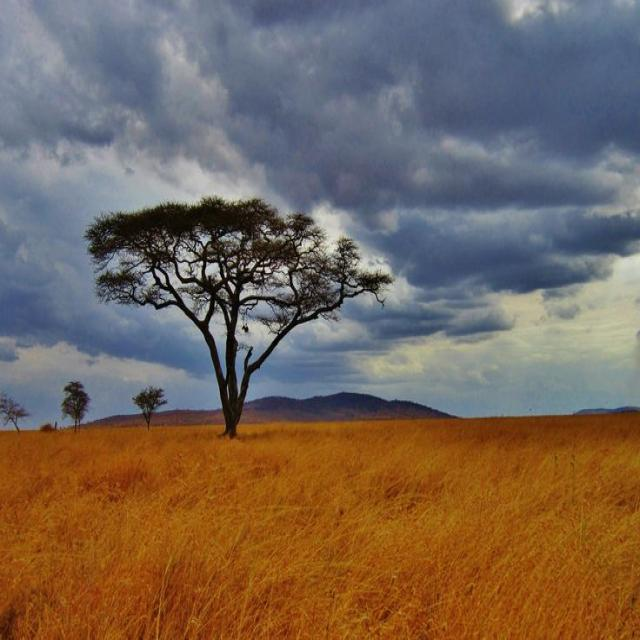Acacia: (89, 214, 384, 418)
